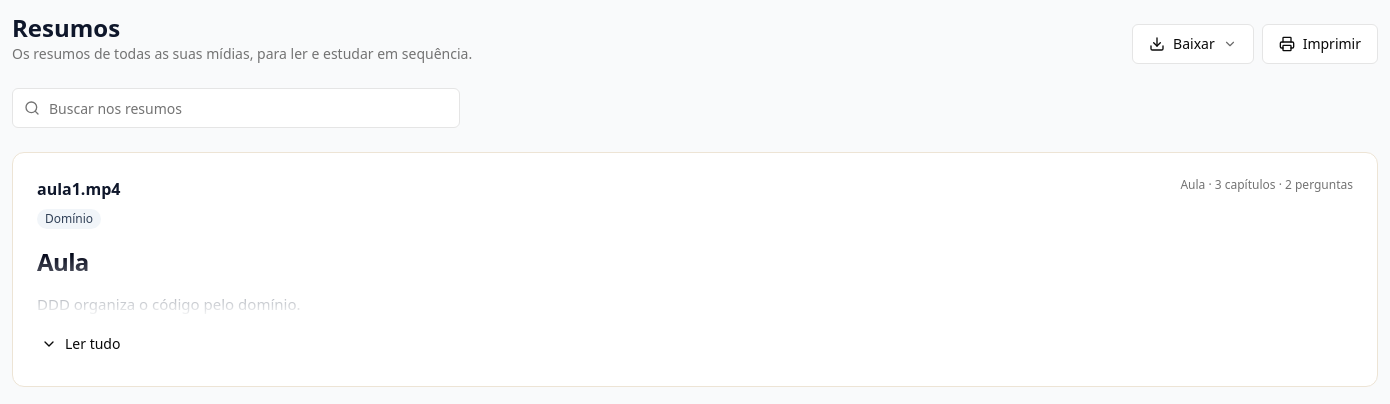
Scenario: Resumos › mostra o resumo sem o apêndice e filtra pela busca
Expected: the text "DDD organiza o código pelo domínio." is shown, [37, 294, 300, 314]
Expected: the text "Domínio" is shown, [37, 209, 101, 229]
Click the button "Baixar" at (1193,44), box [1132, 24, 1254, 64]
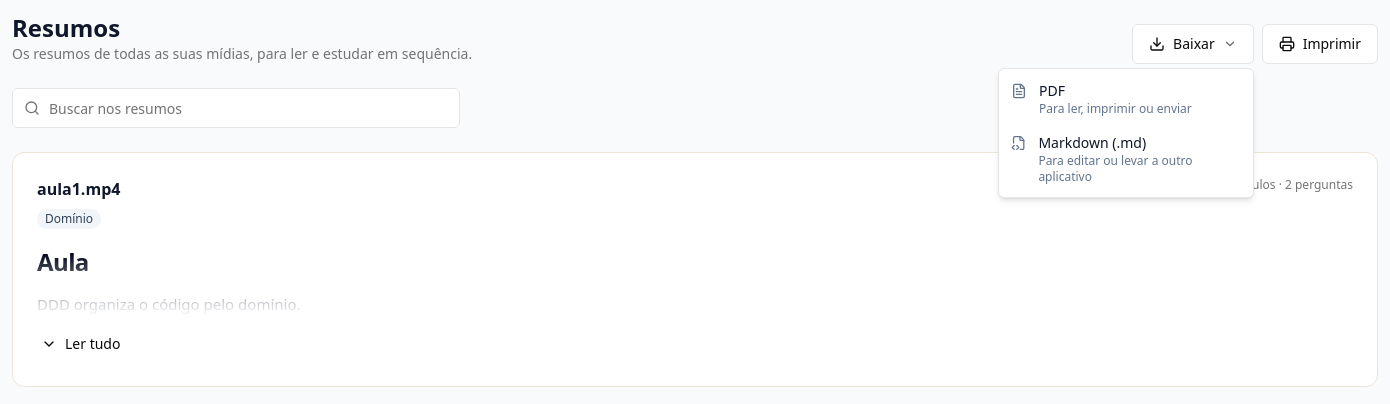
Press Escape
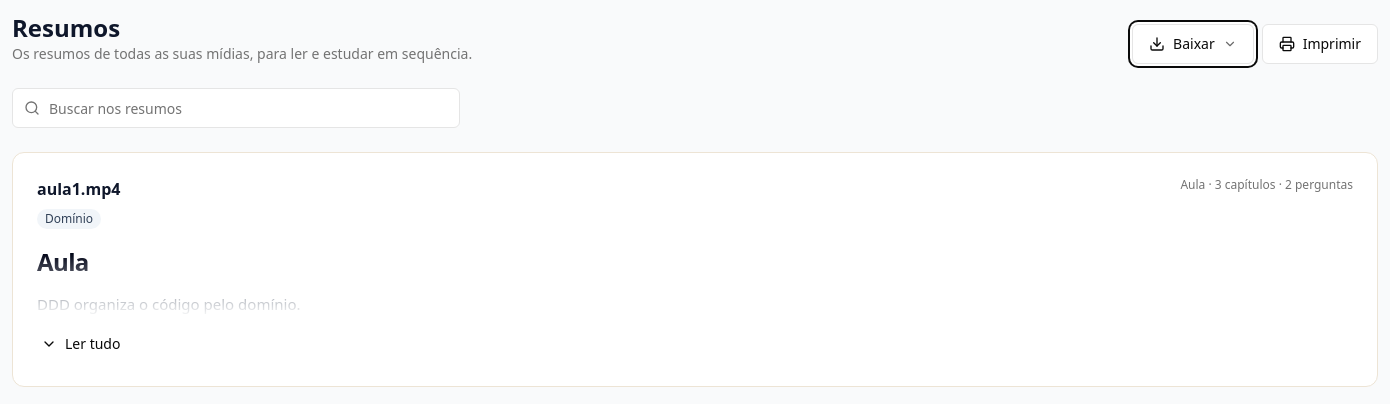
Type "inexistente" into the field labelled "Buscar nos resumos" at (236,108), box [12, 88, 460, 128]
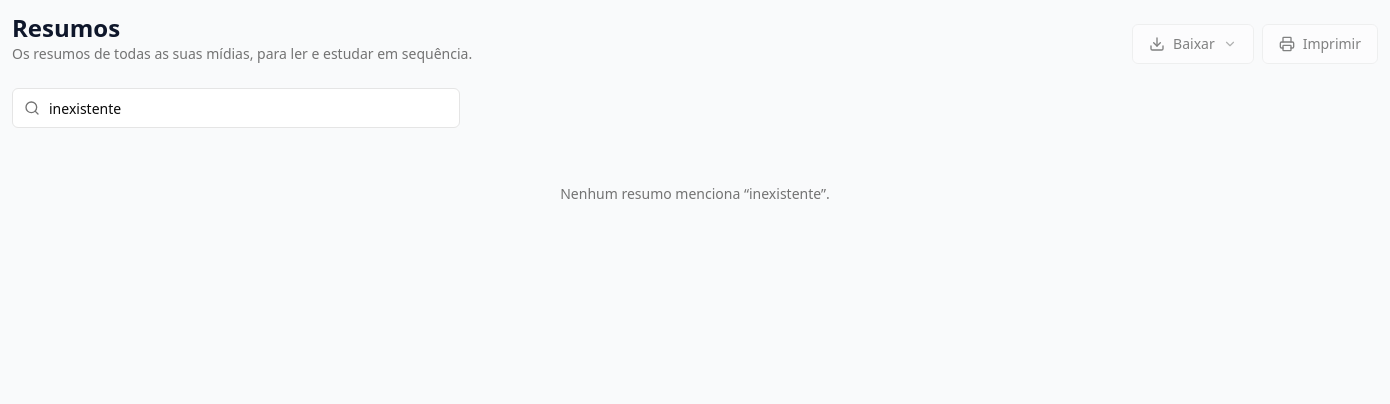
Expected: the text "Nenhum resumo menciona “inexistente”." is shown, [560, 184, 830, 203]
